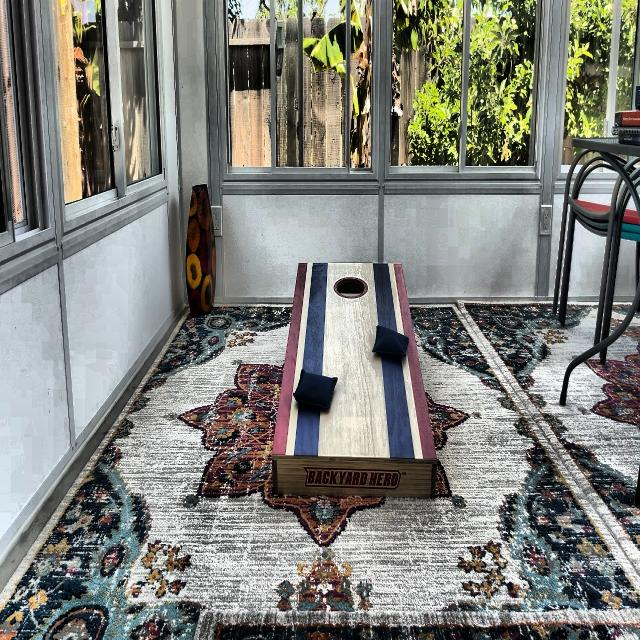blue-bean-bag: (292, 368, 338, 410), (372, 325, 409, 359)
board: (290, 263, 410, 461)
hole: (334, 275, 368, 299)
